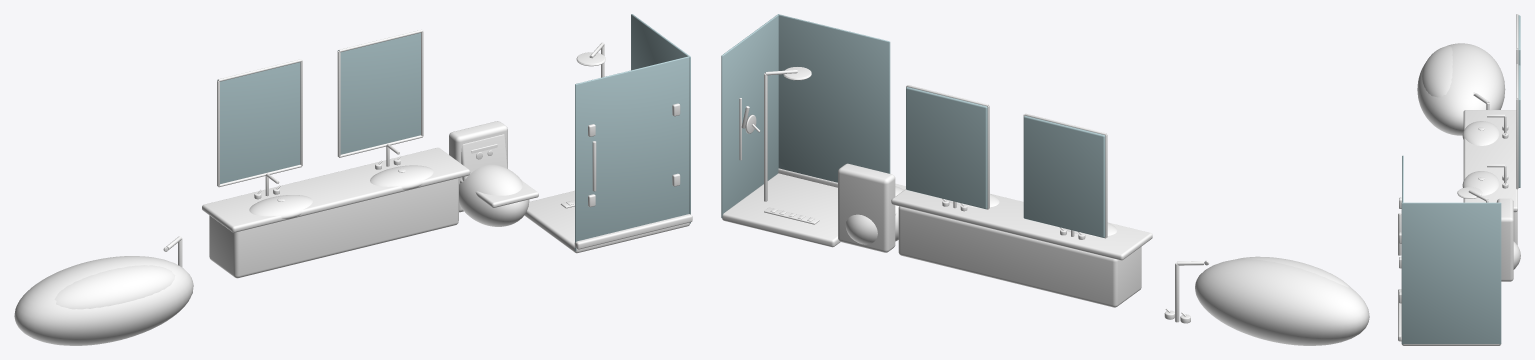
File: bathroom_suite.glb
3 views of the same model, side by side, from view 1: azimuth 30°, elevation 25°; view 2: azimuth 150°, elevation 25°; view 3: azimuth 270°, elevation 25° (orthographic). The views are drawn at different scales.
Visible parts, largest first — view 1: Shower glass front, Floating double vanity, Tub outer shell, Tall mirror, Tall mirror.001, Vanity stone top, Tub inner well, Wall-hung toilet bowl, Shower tray, Shower glass side, Soft-close toilet lid, Wall toilet cistern (+4 smaller); view 2: Shower glass front, Floating double vanity, Tub outer shell, Tall mirror, Shower glass side, Tall mirror.001, Vanity stone top, Shower tray, Wall toilet cistern, Wall-hung toilet bowl, Tub inner well, Rain shower riser; view 3: Shower glass side, Tub outer shell, Vanity stone top, Tub inner well, Wall toilet cistern, Inset basin 1, Inset basin 2, Tall mirror.001, Mirror frame right.001, Rain shower head, Shower tray, Shower threshold (+4 smaller).
Part boxes in pixels (<box>): Shower glass front: <box>575,56,689,250</box>; Floating double vanity: <box>209,178,458,278</box>; Tub outer shell: <box>14,256,193,345</box>; Tall mirror: <box>217,62,300,183</box>; Tall mirror.001: <box>338,33,420,154</box>; Vanity stone top: <box>202,147,470,232</box>; Tub inner well: <box>54,265,175,309</box>; Wall-hung toilet bowl: <box>459,164,529,226</box>; Shower tray: <box>524,190,689,253</box>; Shower glass side: <box>631,14,690,223</box>; Soft-close toilet lid: <box>461,134,507,180</box>; Wall toilet cistern: <box>449,121,507,212</box>; Shower glass front: <box>778,14,890,182</box>; Floating double vanity: <box>898,206,1141,307</box>; Tub outer shell: <box>1195,259,1369,345</box>; Tall mirror: <box>1023,115,1105,237</box>; Shower glass side: <box>721,14,778,218</box>; Tall mirror.001: <box>906,87,987,209</box>; Vanity stone top: <box>891,189,1152,260</box>; Shower tray: <box>722,173,840,247</box>; Wall toilet cistern: <box>838,163,895,252</box>; Wall-hung toilet bowl: <box>845,186,903,244</box>; Tub inner well: <box>1237,256,1351,288</box>; Rain shower riser: <box>764,73,767,201</box>; Shower glass side: <box>1401,202,1501,344</box>; Tub outer shell: <box>1417,43,1505,135</box>; Vanity stone top: <box>1463,110,1517,212</box>; Tub inner well: <box>1422,46,1452,97</box>; Wall toilet cistern: <box>1496,198,1513,281</box>; Inset basin 1: <box>1462,121,1499,145</box>; Inset basin 2: <box>1462,171,1499,195</box>; Tall mirror.001: <box>1518,65,1520,187</box>; Mirror frame right.001: <box>1516,99,1518,188</box>; Rain shower head: <box>1457,187,1482,198</box>; Shower tray: <box>1401,344,1500,345</box>; Shower threshold: <box>1398,289,1401,341</box>.
Bounding box in the file's own units: 9.51 × 2.8 × 1.88.
